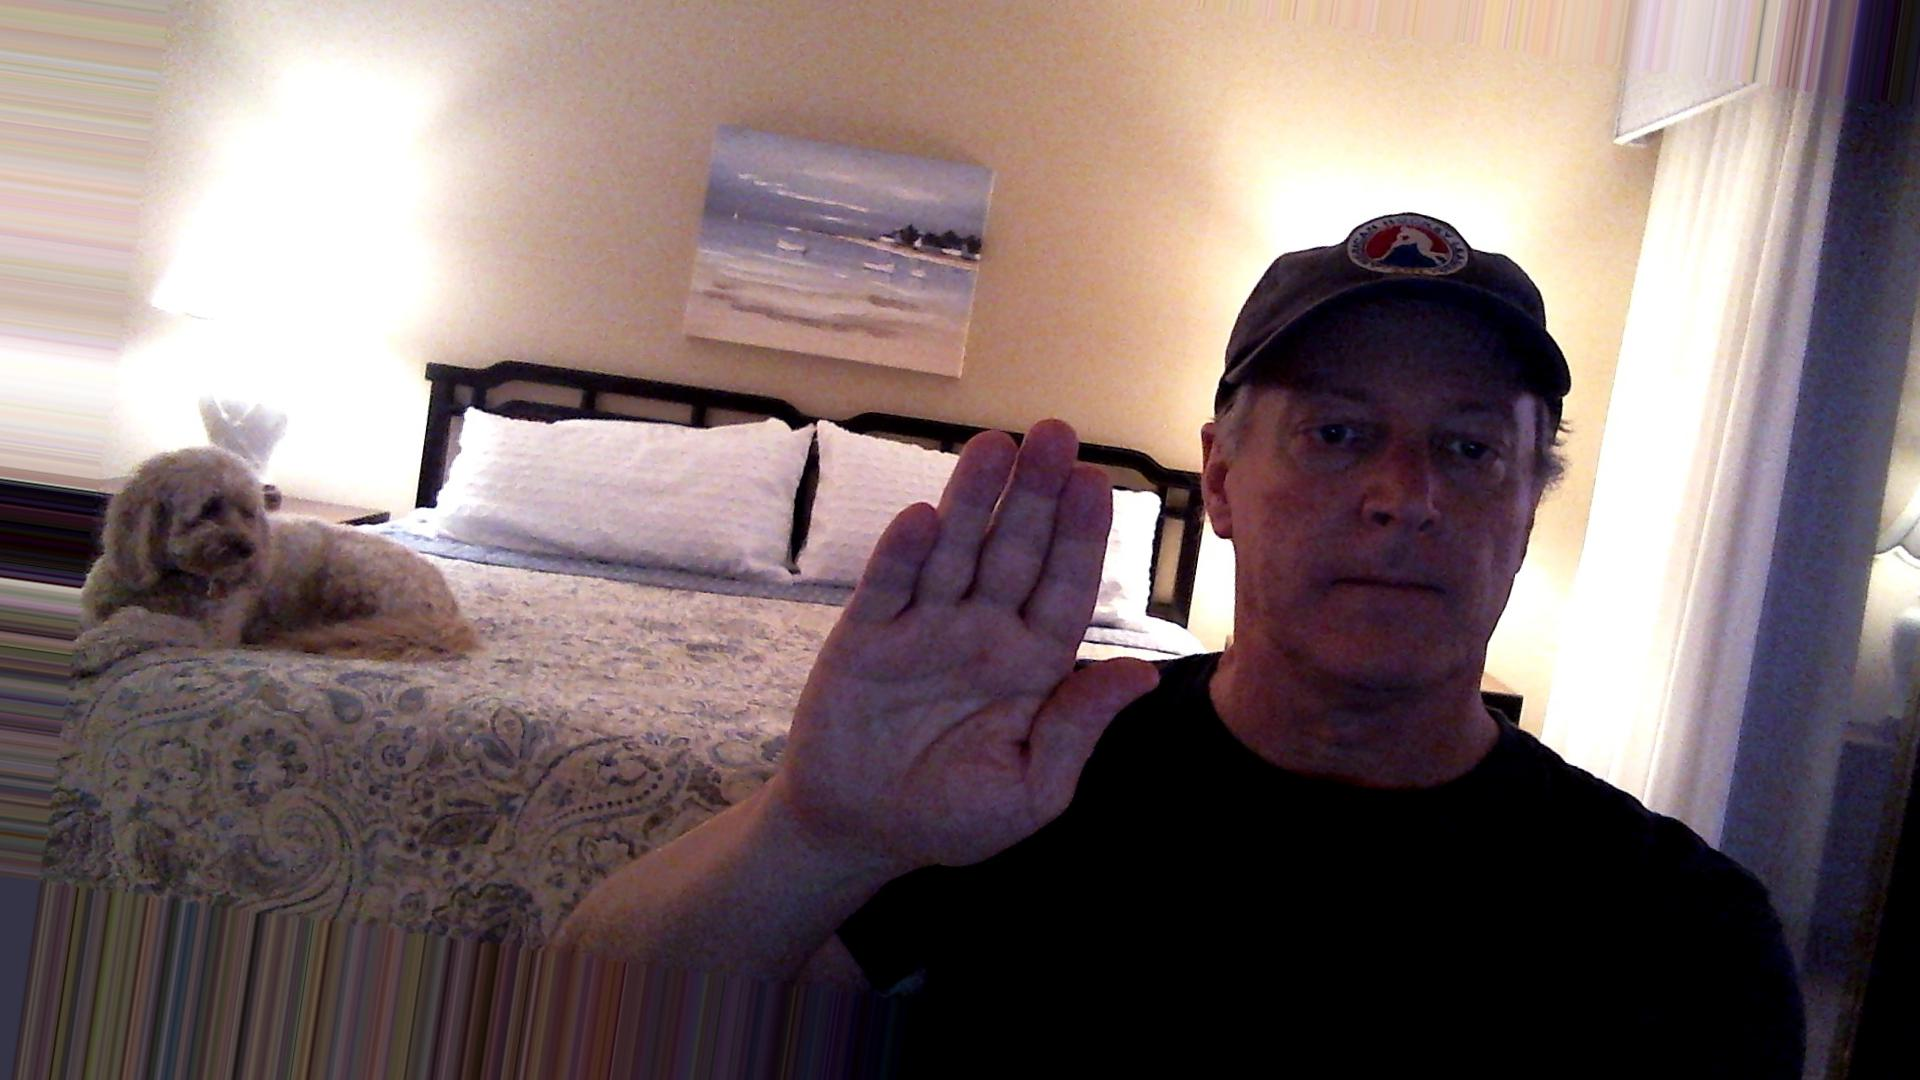Hello: (777, 400, 1171, 891)
